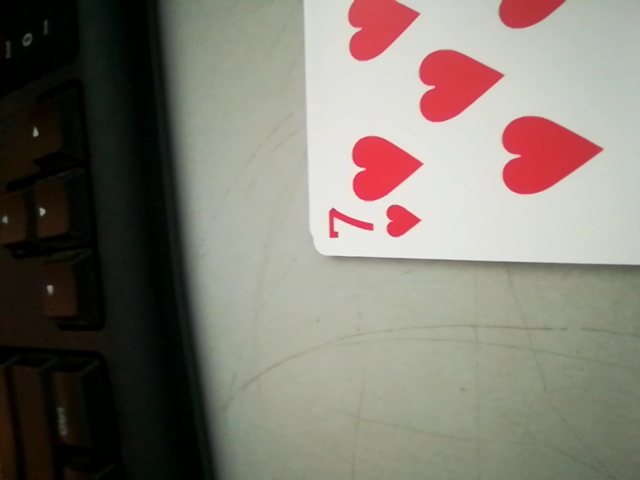hx 7: (320, 200, 427, 256)
